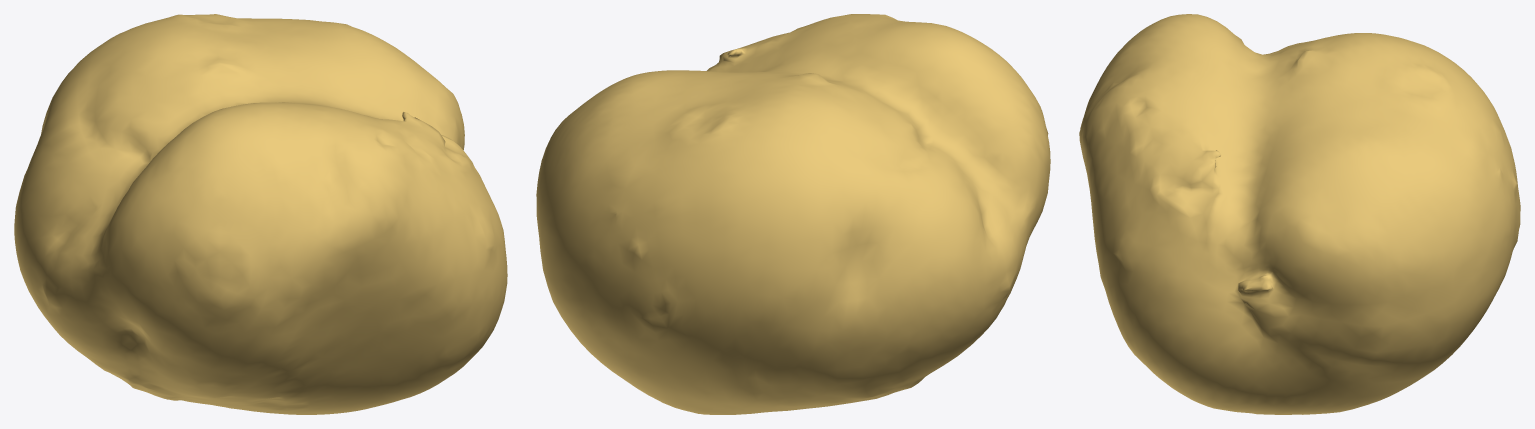
The model's file is boiled-potato.glb.
3 views of the same model, side by side, from view 1: azimuth 30°, elevation 25°; view 2: azimuth 150°, elevation 25°; view 3: azimuth 270°, elevation 25° (orthographic). The views are drawn at different scales.
Visible parts, largest first — view 1: world; view 2: world; view 3: world.
Boxes of the visible parts, x1,y1,x2,y2 form: world: (14,14,507,414); world: (536,14,1050,414); world: (1079,14,1520,414).
Bounding box in the file's own units: 0.04 × 0.0316 × 0.039.
